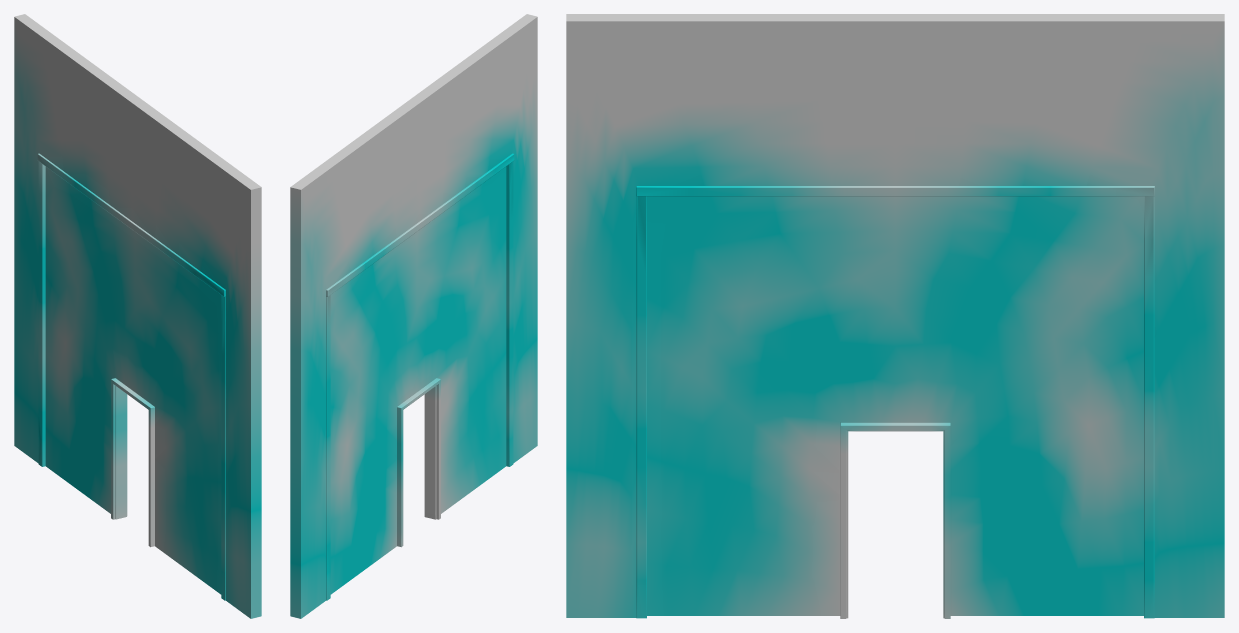
File: SM_Wall_Door_Simple_New.fbx
The picture shows the model from 3 angles, left to right: view 1: azimuth 30°, elevation 25°; view 2: azimuth 150°, elevation 25°; view 3: azimuth 270°, elevation 25°; orthographic projection. The views are drawn at different scales.
Parts seen in each view (by area): view 1: SM_Wall_DoorSimple, SM_Wall_DoorSimple.001; view 2: SM_Wall_DoorSimple, SM_Wall_DoorSimple.001; view 3: SM_Wall_DoorSimple, SM_Wall_DoorSimple.001.
Boxes of the visible parts, <box> form: SM_Wall_DoorSimple: <box>14,14,261,618</box>; SM_Wall_DoorSimple.001: <box>37,155,224,600</box>; SM_Wall_DoorSimple: <box>290,14,537,618</box>; SM_Wall_DoorSimple.001: <box>327,155,514,600</box>; SM_Wall_DoorSimple: <box>566,14,1224,618</box>; SM_Wall_DoorSimple.001: <box>637,188,1153,618</box>.
Size of the model in its own units: 26.42 by 750 by 750.
